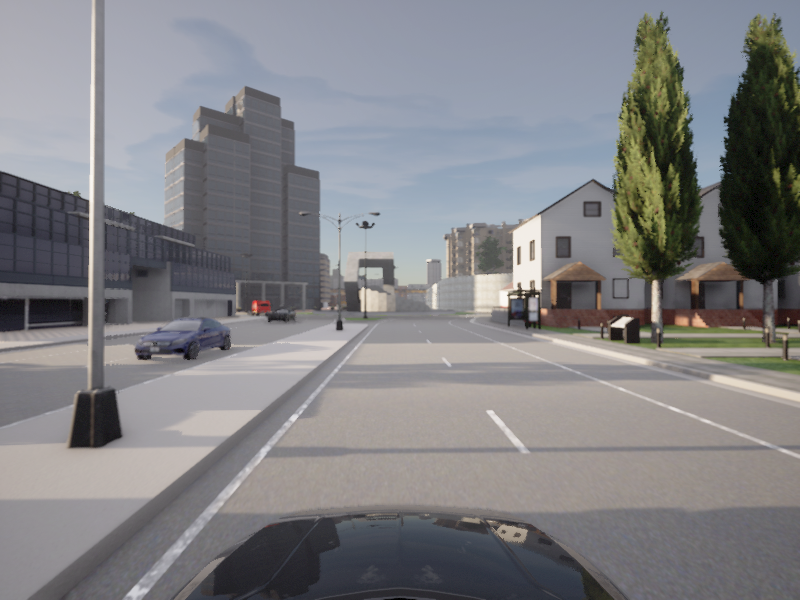vehicle: (127, 316, 237, 363), (263, 306, 298, 323)
